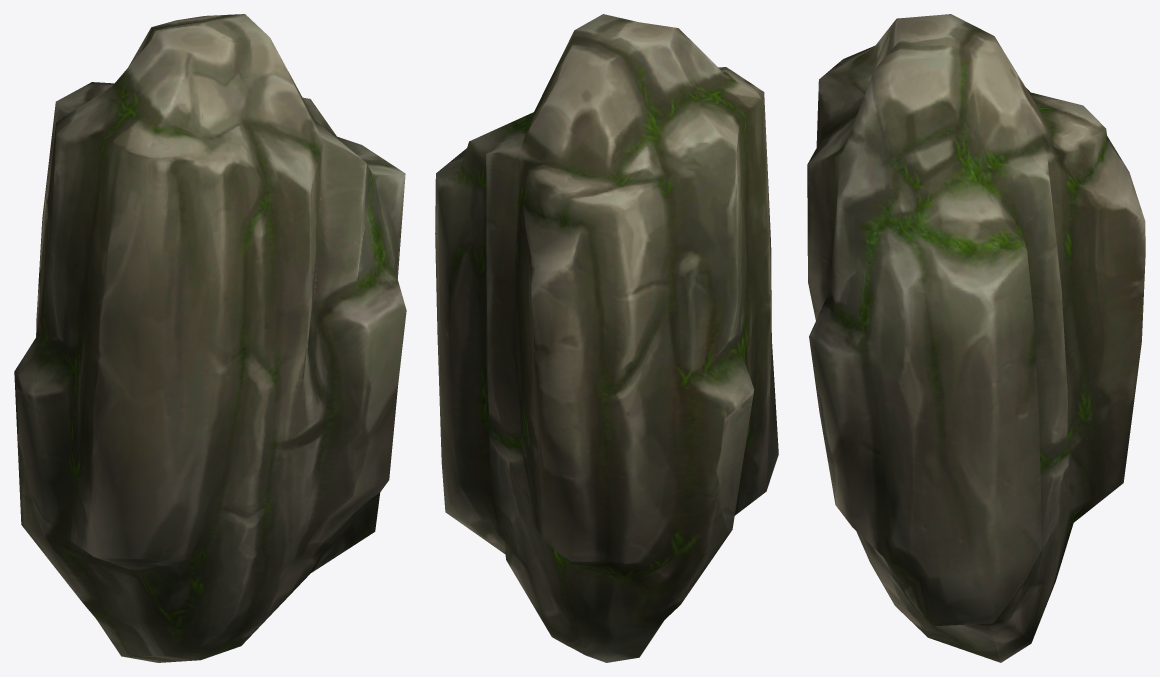
The model's file is RockFormation_4_2 (56).fbx.
3 renders of one model, left to right at view 1: azimuth 30°, elevation 25°; view 2: azimuth 150°, elevation 25°; view 3: azimuth 270°, elevation 25°, orthographic. The views are drawn at different scales.
Visible parts, largest first — view 1: RockFormation_4_2 (56); view 2: RockFormation_4_2 (56); view 3: RockFormation_4_2 (56).
Boxes of the visible parts, <box> form: RockFormation_4_2 (56): <box>14,14,406,662</box>; RockFormation_4_2 (56): <box>435,14,778,662</box>; RockFormation_4_2 (56): <box>807,14,1145,662</box>.
Bounding box in the file's own units: 264 × 488 × 240.
